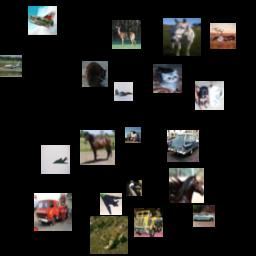airplane: (41, 145, 70, 174), (28, 6, 57, 35), (0, 55, 22, 77), (100, 193, 122, 215), (114, 82, 133, 101)
automobile: (167, 130, 199, 162), (193, 205, 215, 227)
bird: (126, 180, 142, 196)
cat: (153, 64, 182, 93), (82, 61, 108, 87)
deer: (112, 20, 141, 49), (210, 23, 236, 49)
dog: (195, 81, 224, 110)
frog: (90, 216, 128, 254)
truck: (34, 193, 72, 231), (134, 208, 163, 237), (125, 127, 141, 143)
